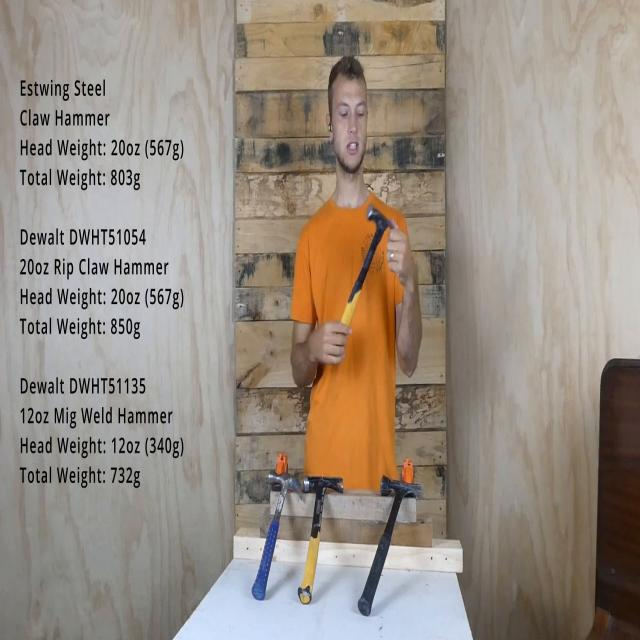hammer: (356, 477, 423, 616), (249, 471, 303, 600), (296, 474, 346, 608), (342, 205, 394, 331)
